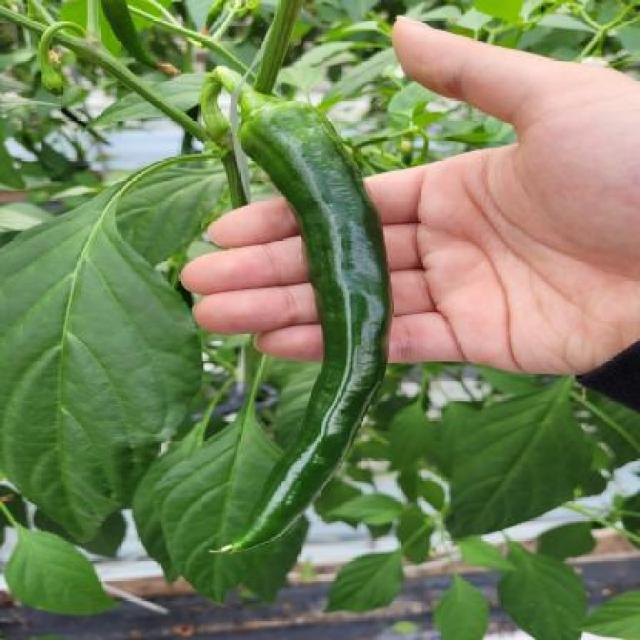green chilli: (231, 100, 394, 552)
